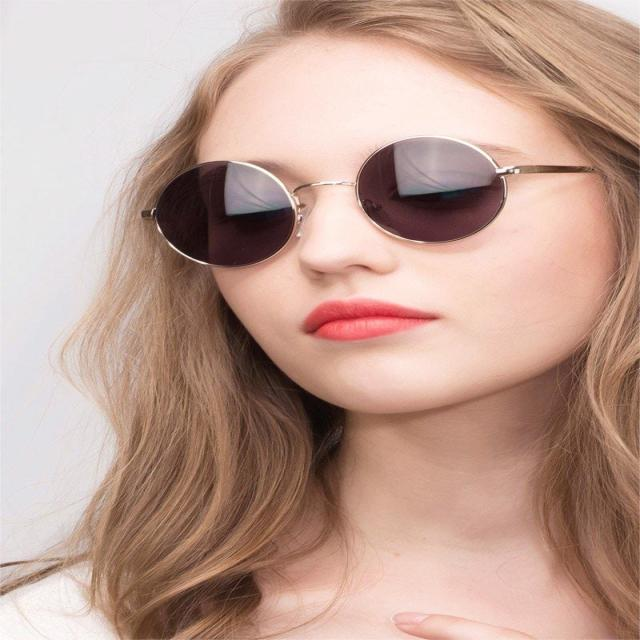2_gafas: (139, 134, 607, 269)
